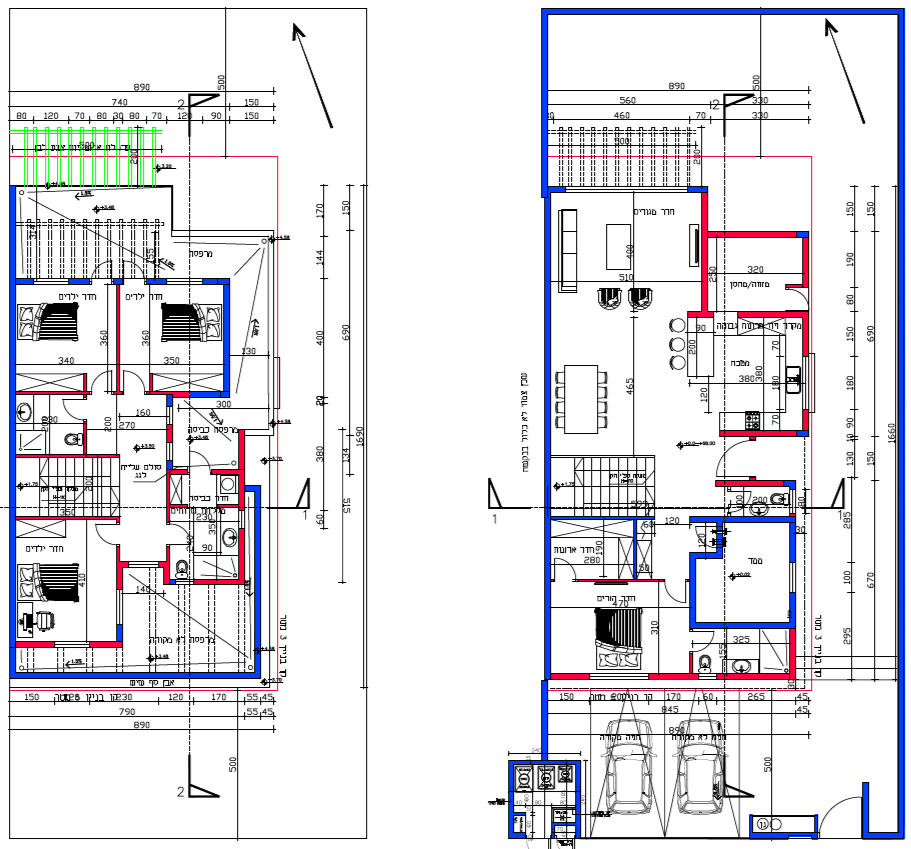door: (820, 790, 863, 833), (709, 442, 746, 479), (661, 582, 689, 605), (93, 521, 115, 550), (59, 396, 80, 422), (552, 556, 578, 576), (121, 369, 146, 389), (91, 369, 115, 389)
wall: (897, 16, 904, 834), (549, 8, 900, 13), (701, 194, 707, 311), (545, 281, 549, 445), (545, 520, 550, 643), (542, 9, 545, 190), (726, 430, 796, 436), (727, 516, 793, 522), (861, 783, 868, 839), (738, 311, 808, 316), (725, 231, 795, 236), (729, 622, 790, 627), (727, 673, 786, 678), (690, 553, 694, 624)
window: (564, 183, 688, 197), (798, 356, 819, 411), (589, 669, 650, 682), (786, 560, 800, 593), (32, 276, 69, 287), (167, 275, 203, 286), (55, 638, 90, 649), (128, 559, 159, 569), (164, 440, 176, 461), (164, 407, 176, 424), (697, 671, 716, 681), (237, 507, 246, 528)
